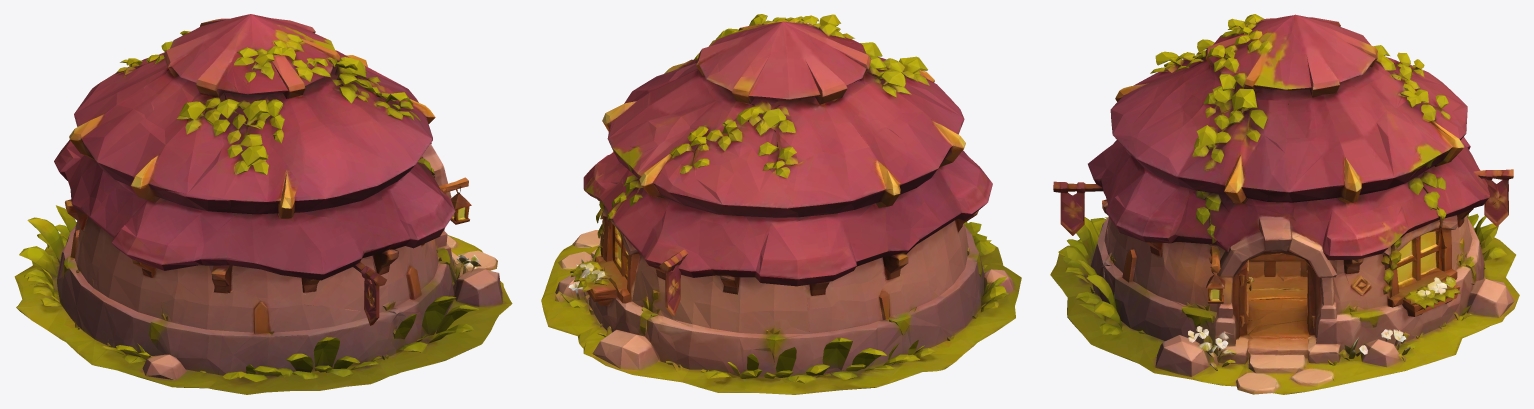
Rendered from KeepSakeRockHouse-compressed.glb.
3 views of the same model, side by side, from view 1: azimuth 30°, elevation 25°; view 2: azimuth 150°, elevation 25°; view 3: azimuth 270°, elevation 25° (orthographic). The views are drawn at different scales.
Visible parts, largest first — view 1: tripo_node_a686f7b6-5bbe-4358-94a3-2eab0c1102e9; view 2: tripo_node_a686f7b6-5bbe-4358-94a3-2eab0c1102e9; view 3: tripo_node_a686f7b6-5bbe-4358-94a3-2eab0c1102e9.
Boxes of the visible parts, x1,y1,x2,y2 form: tripo_node_a686f7b6-5bbe-4358-94a3-2eab0c1102e9: (14, 14, 512, 394); tripo_node_a686f7b6-5bbe-4358-94a3-2eab0c1102e9: (541, 14, 1021, 394); tripo_node_a686f7b6-5bbe-4358-94a3-2eab0c1102e9: (1050, 14, 1519, 394).
Bounding box in the file's own units: 0.9768 × 0.6332 × 0.9797.
Materials: 1 (1 with a texture image).
